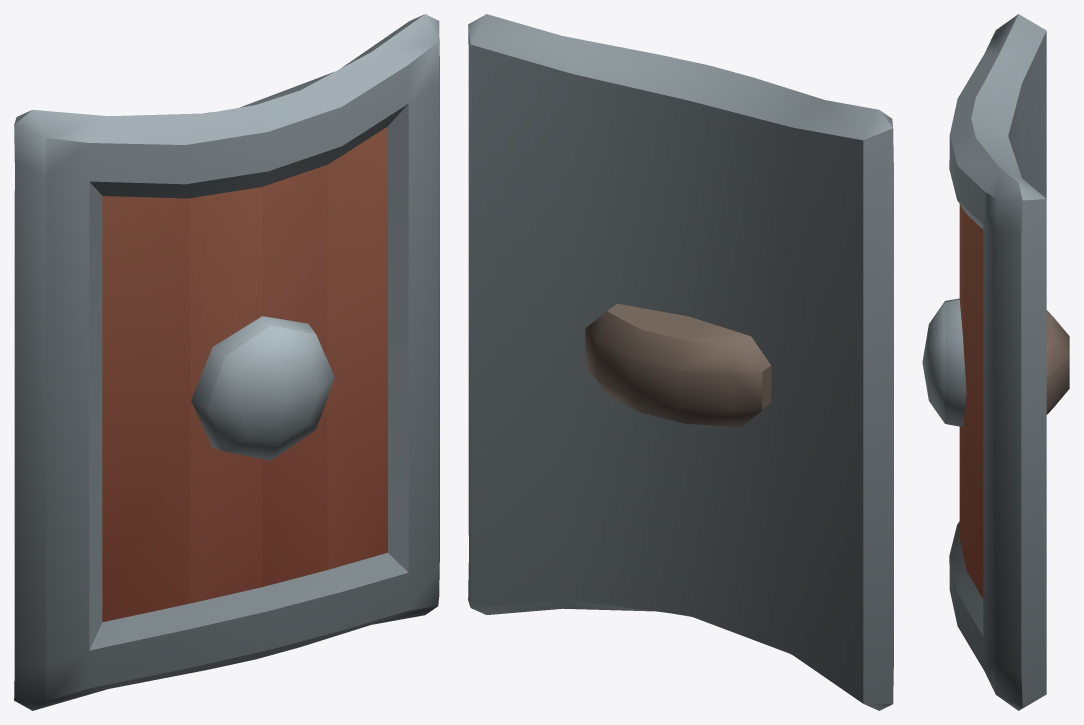
Rendered from shield_square.glb.
3 renders of one model, left to right at view 1: azimuth 30°, elevation 25°; view 2: azimuth 150°, elevation 25°; view 3: azimuth 270°, elevation 25°, orthographic. The views are drawn at different scales.
Visible parts, largest first — view 1: shield_square; view 2: shield_square; view 3: shield_square.
Boxes of the visible parts, x1,y1,x2,y2 form: shield_square: (14,14,439,710); shield_square: (468,14,893,710); shield_square: (922,14,1069,710).
Size of the model in its own units: 0.8826 by 1.19 by 0.3011.
1 material, 1 textured.
